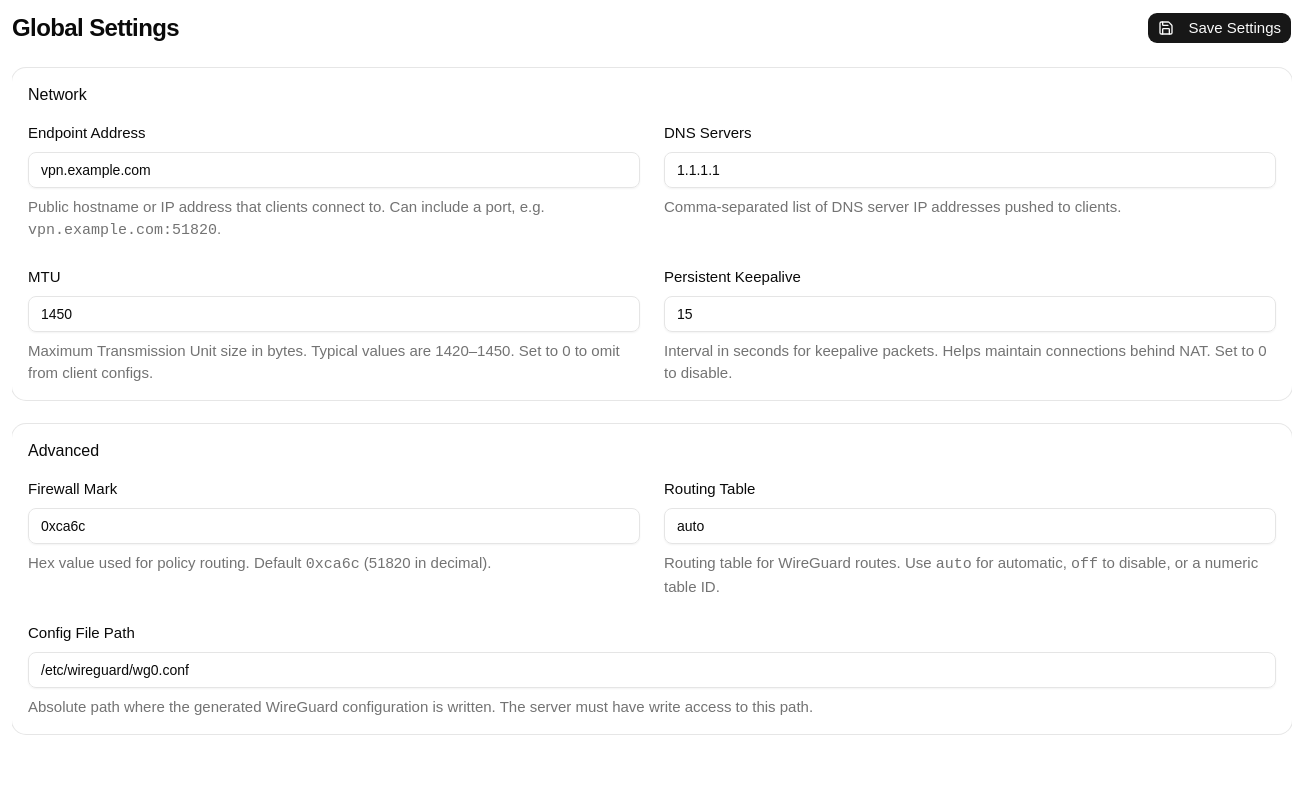
Test: SettingsPage interactions › shows validation error for empty DNS
Clear the field showing "1.1.1.1": (970, 170) [664,152,1276,188]
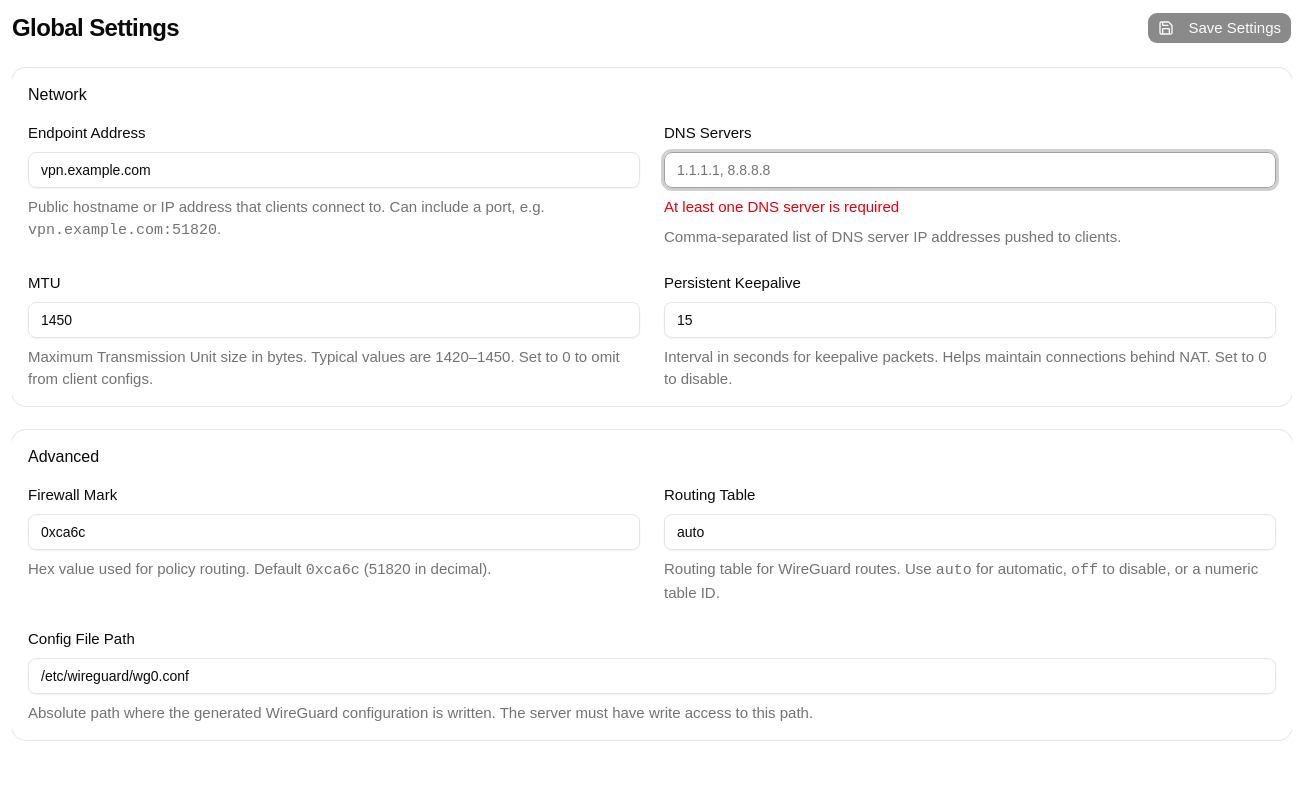
Check: the text "At least one DNS server is required" is shown, box [664,198,899,215]
